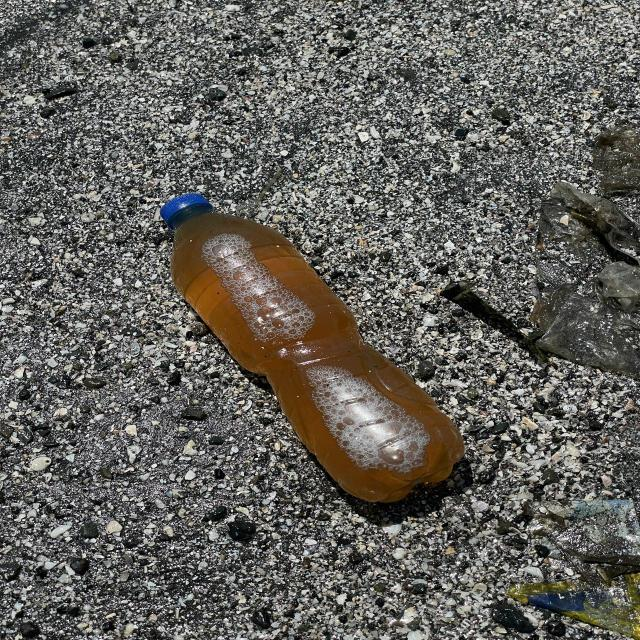plastic_waste: (160, 193, 466, 505)
